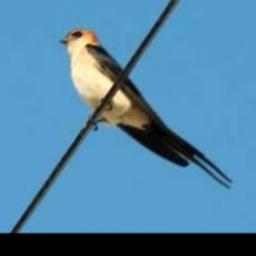Swallow: (59, 28, 233, 190)
